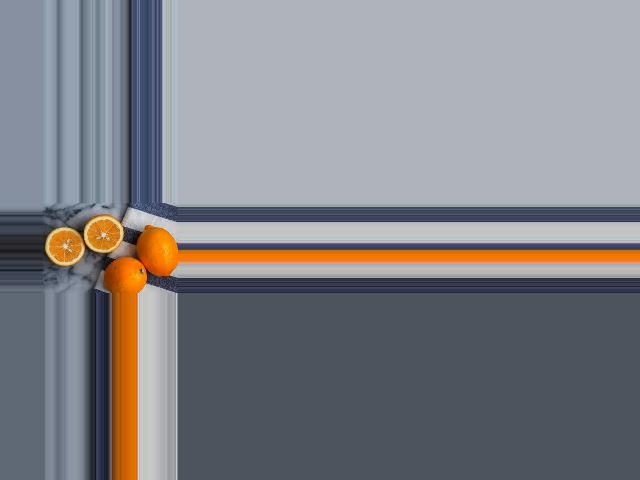lemon: (108, 257, 146, 294)
